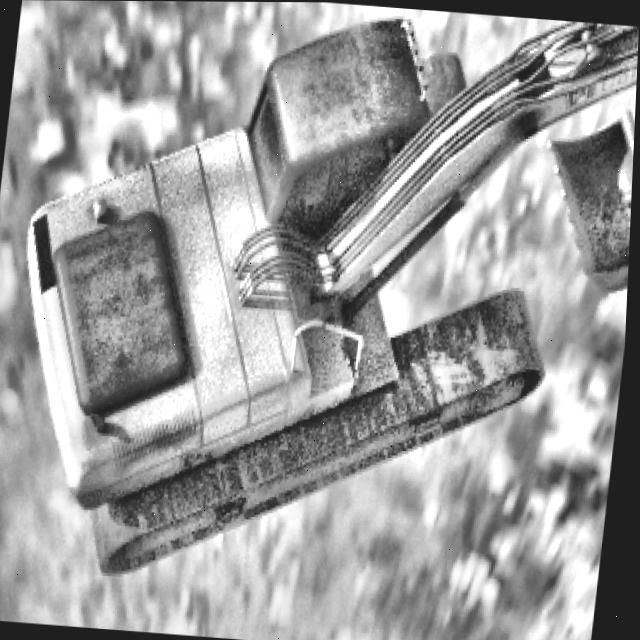excavator: (0, 0, 640, 609)
